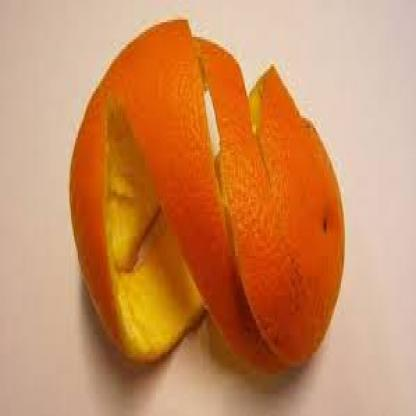Disposable tableware: (5, 5, 416, 416)
